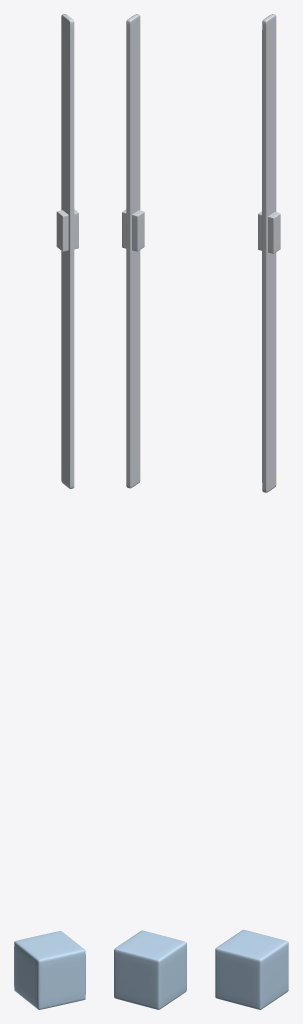
The model's file is PROP_Scooter_v0.glb.
3 renders of one model, left to right at view 1: azimuth 30°, elevation 25°; view 2: azimuth 150°, elevation 25°; view 3: azimuth 330°, elevation 25°, orthographic.
Parts seen in each view (by area): view 1: PROP_Scooter_v0; view 2: PROP_Scooter_v0; view 3: PROP_Scooter_v0.
Part boxes in pixels (bbox=[...]): PROP_Scooter_v0: bbox=[14, 14, 85, 1009]; PROP_Scooter_v0: bbox=[114, 14, 186, 1009]; PROP_Scooter_v0: bbox=[215, 14, 288, 1009].
Bounding box in the file's own units: 1.06 × 19.71 × 1.02.
